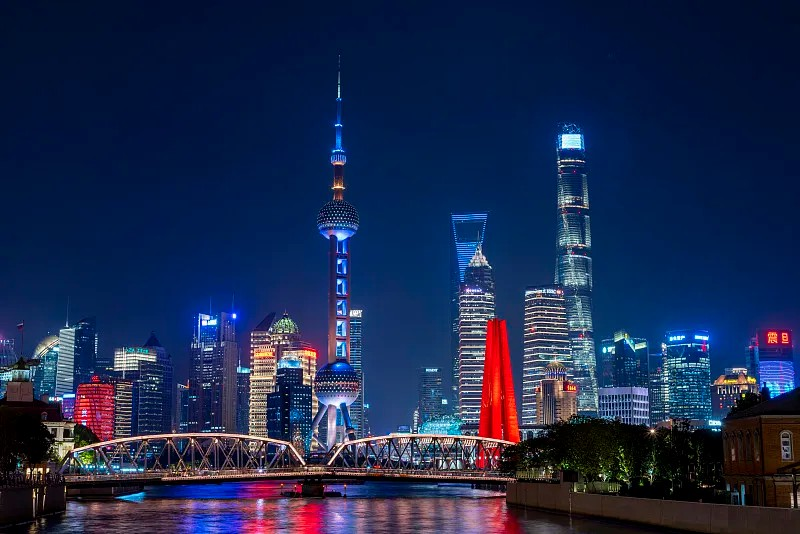Oriental: (312, 52, 360, 450)
